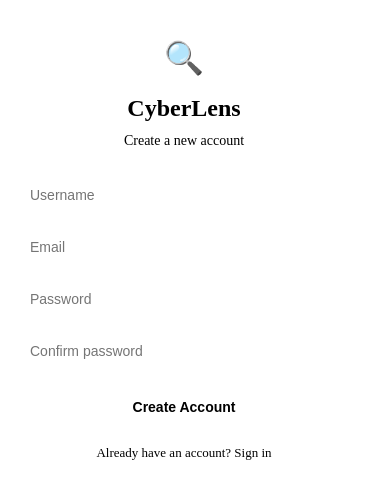
it: RegisterPage › displays error from API on registration failure
Type "taken" into the field with placeholder "Username". click: (184, 195)
box: [16,175,352,215]
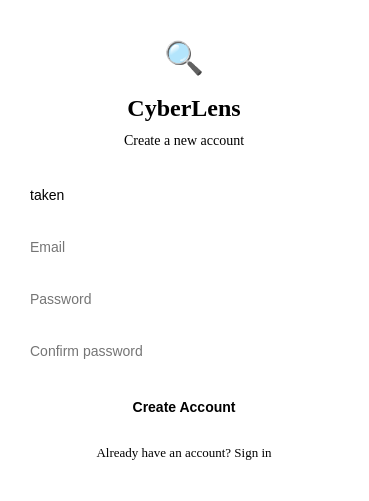
Type "t@b.com" into the field with placeholder "Email". click: (184, 247)
box: [16,227,352,267]
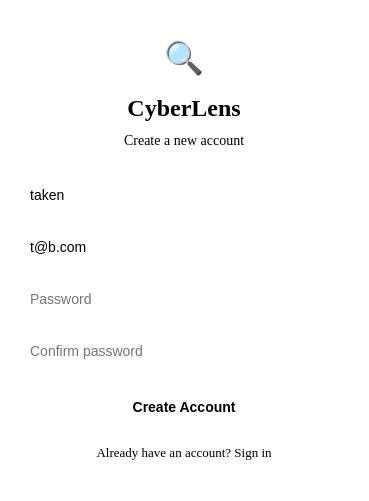
Type "pass" into the password field with placeholder "Password". click: (184, 299)
box: [16,279,352,319]
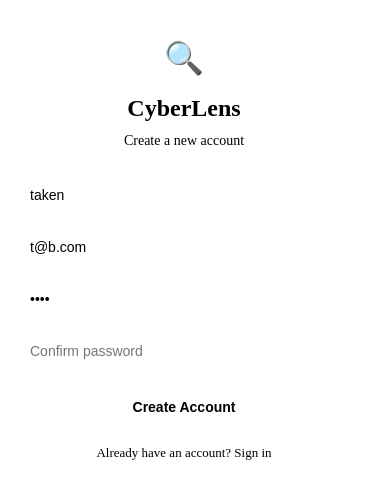
Type "pass" into the password field with placeholder "Confirm password". click: (184, 351)
box: [16,331,352,371]
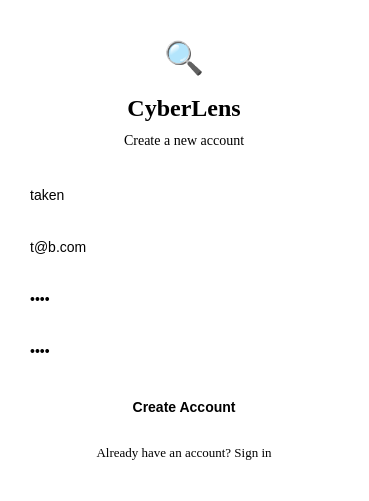
Click the button "Create Account". click: (184, 407)
box: [16,387,352,427]
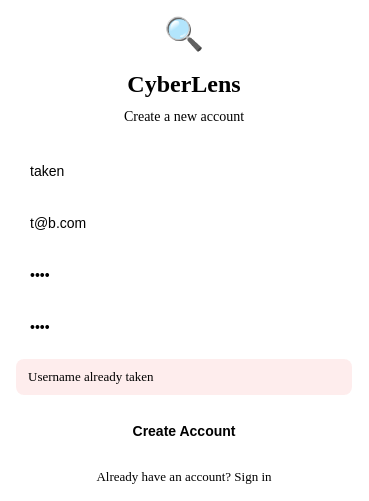
expect the text "Username already taken" is shown: met, box [16,359,352,394]
